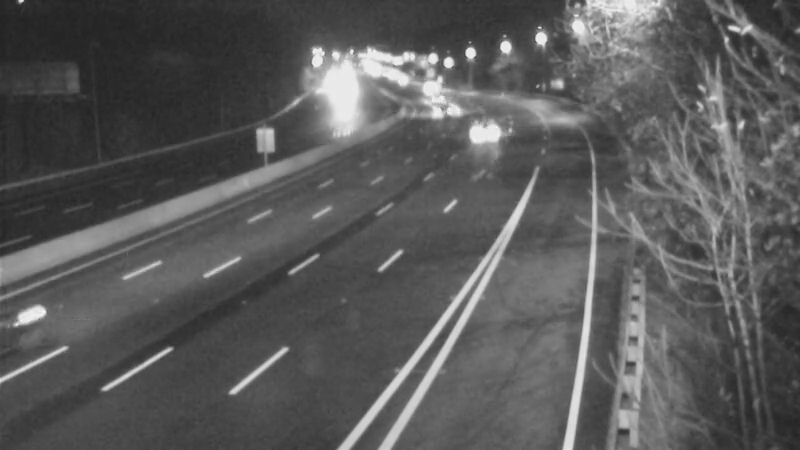vehicle: (406, 61, 456, 111), (412, 77, 462, 127), (421, 91, 471, 141), (452, 102, 502, 152), (310, 77, 360, 127)
